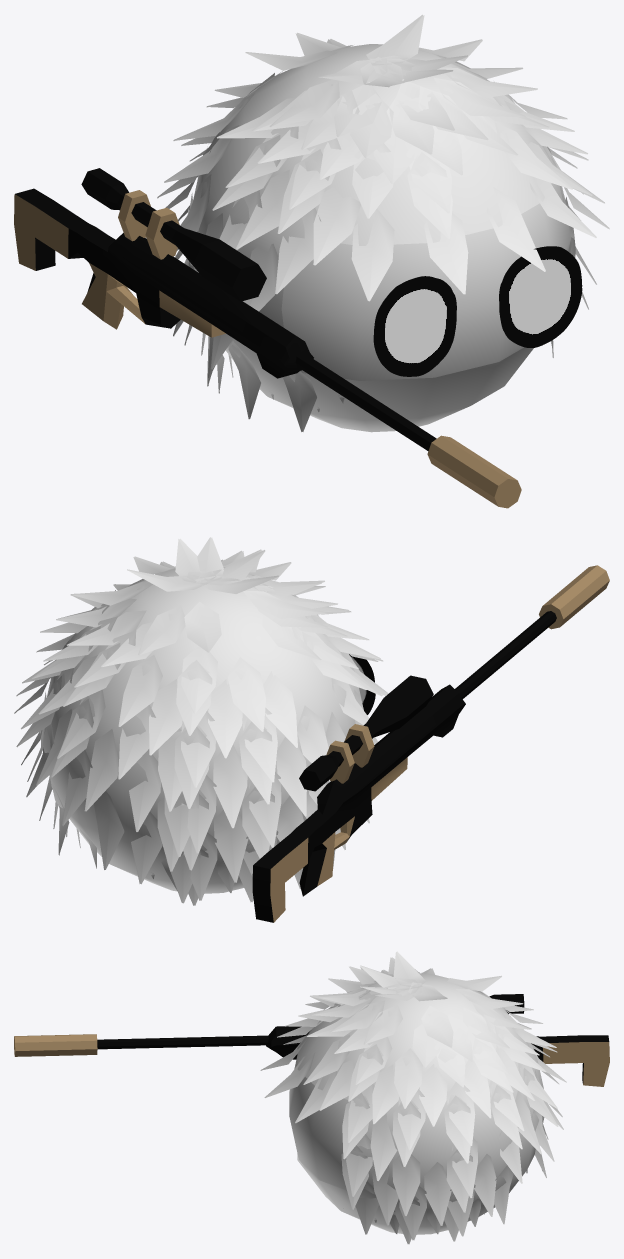
File: sniper.fbx
The picture shows the model from 3 angles, top to bottom: view 1: azimuth 30°, elevation 25°; view 2: azimuth 150°, elevation 25°; view 3: azimuth 270°, elevation 25°; orthographic projection. The views are drawn at different scales.
Parts seen in each view (by area): view 1: gun, leabes, countryball.001, face, leabes|Plane.012|Dupli|110, leabes|Plane.012|Dupli|118, leabes|Plane.012|Dupli|104, leabes|Plane.012|Dupli|86, leabes|Plane.012|Dupli|116, leabes|Plane.012|Dupli|130, leabes|Plane.012|Dupli|134, leabes|Plane.012|Dupli|99 (+35 smaller); view 2: leabes, gun, leabes|Plane.012|Dupli|193, leabes|Plane.012|Dupli|165, leabes|Plane.012|Dupli|216, leabes|Plane.012|Dupli|187, leabes|Plane.012|Dupli|1, leabes|Plane.012|Dupli|214, leabes|Plane.012|Dupli|166, leabes|Plane.012|Dupli|181, leabes|Plane.012|Dupli|178, leabes|Plane.012|Dupli|202 (+48 smaller); view 3: leabes, gun, countryball.001, leabes|Plane.012|Dupli|55, leabes|Plane.012|Dupli|51, leabes|Plane.012|Dupli|54, leabes|Plane.012|Dupli|52, leabes|Plane.012|Dupli|61, leabes|Plane.012|Dupli|70, leabes|Plane.012|Dupli|31, leabes|Plane.012|Dupli|28, leabes|Plane.012|Dupli|32 (+46 smaller).
Boxes of the visible parts, x1,y1,x2,y2 form: gun: [14, 168, 521, 508]; leabes: [190, 44, 572, 432]; countryball.001: [281, 183, 570, 380]; face: [373, 246, 582, 376]; leabes|Plane.012|Dupli|110: [351, 209, 394, 301]; leabes|Plane.012|Dupli|118: [313, 186, 360, 265]; leabes|Plane.012|Dupli|104: [424, 212, 468, 294]; leabes|Plane.012|Dupli|86: [486, 187, 545, 271]; leabes|Plane.012|Dupli|116: [275, 208, 321, 294]; leabes|Plane.012|Dupli|130: [236, 169, 289, 248]; leabes|Plane.012|Dupli|134: [269, 79, 339, 127]; leabes|Plane.012|Dupli|99: [386, 92, 434, 154]; leabes: [43, 567, 361, 893]; gun: [252, 565, 609, 922]; leabes|Plane.012|Dupli|193: [213, 744, 247, 828]; leabes|Plane.012|Dupli|165: [227, 657, 265, 731]; leabes|Plane.012|Dupli|216: [118, 655, 162, 726]; leabes|Plane.012|Dupli|187: [208, 679, 242, 758]; leabes|Plane.012|Dupli|1: [84, 729, 118, 811]; leabes|Plane.012|Dupli|214: [149, 679, 182, 755]; leabes|Plane.012|Dupli|166: [263, 671, 297, 747]; leabes|Plane.012|Dupli|181: [214, 810, 248, 882]; leabes|Plane.012|Dupli|178: [276, 736, 306, 816]; leabes|Plane.012|Dupli|202: [129, 749, 160, 831]; leabes: [297, 973, 544, 1234]; gun: [14, 994, 609, 1086]; countryball.001: [289, 1056, 349, 1190]; leabes|Plane.012|Dupli|55: [419, 1064, 447, 1126]; leabes|Plane.012|Dupli|51: [392, 1154, 420, 1215]; leabes|Plane.012|Dupli|54: [394, 1048, 422, 1108]; leabes|Plane.012|Dupli|52: [424, 1162, 451, 1225]; leabes|Plane.012|Dupli|61: [370, 1113, 397, 1180]; leabes|Plane.012|Dupli|70: [372, 1064, 399, 1124]; leabes|Plane.012|Dupli|31: [464, 1060, 491, 1118]; leabes|Plane.012|Dupli|28: [474, 1154, 496, 1216]; leabes|Plane.012|Dupli|32: [446, 1082, 475, 1145].
Size of what is drawn, in the model's own units: 251 by 210 by 459.
4 materials, 1 textured.
